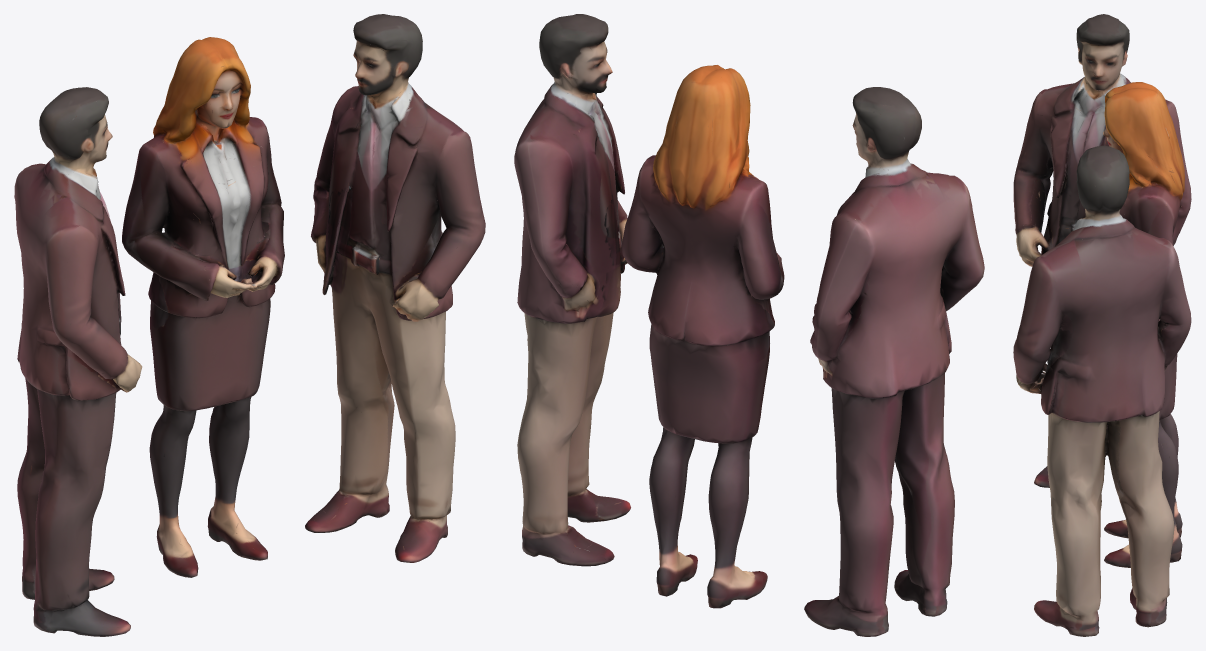
File: staff.glb
The picture shows the model from 3 angles, left to right: view 1: azimuth 30°, elevation 25°; view 2: azimuth 150°, elevation 25°; view 3: azimuth 270°, elevation 25°; orthographic projection. The views are drawn at different scales.
Size of the model in its own units: 1.66 by 1.92 by 0.6671.
1 material, 1 textured.
